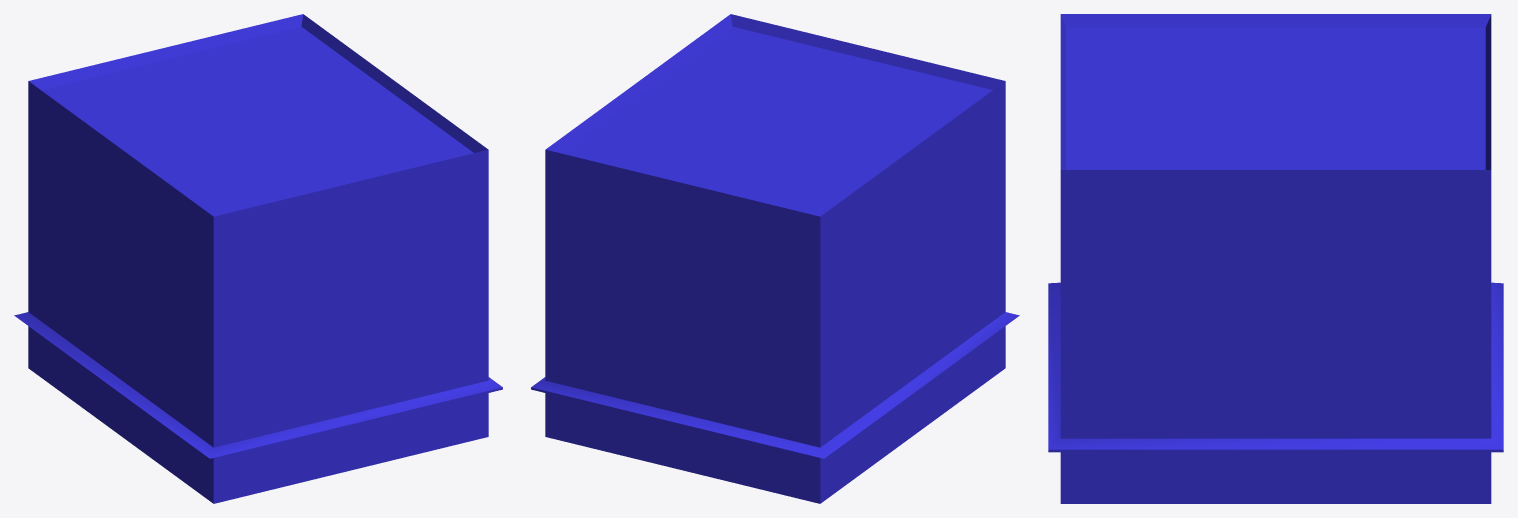
File: cube.147_lev1_lev3.glb
3 views of the same model, side by side, from view 1: azimuth 30°, elevation 25°; view 2: azimuth 150°, elevation 25°; view 3: azimuth 270°, elevation 25° (orthographic). The views are drawn at different scales.
Parts seen in each view (by area): view 1: cube.147_lev1_lev3; view 2: cube.147_lev1_lev3; view 3: cube.147_lev1_lev3.
Boxes of the visible parts, x1=… form: cube.147_lev1_lev3: x1=14, y1=14, x2=502, y2=503; cube.147_lev1_lev3: x1=531, y1=14, x2=1019, y2=503; cube.147_lev1_lev3: x1=1048, y1=14, x2=1503, y2=503.
Size of the model in its own units: 9.88 by 9.25 by 11.43.
